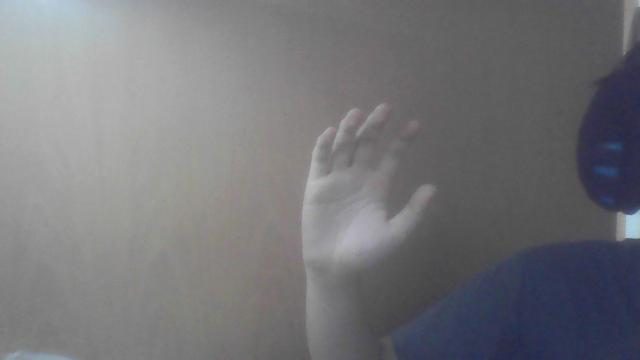Stop: (311, 107, 429, 269)
